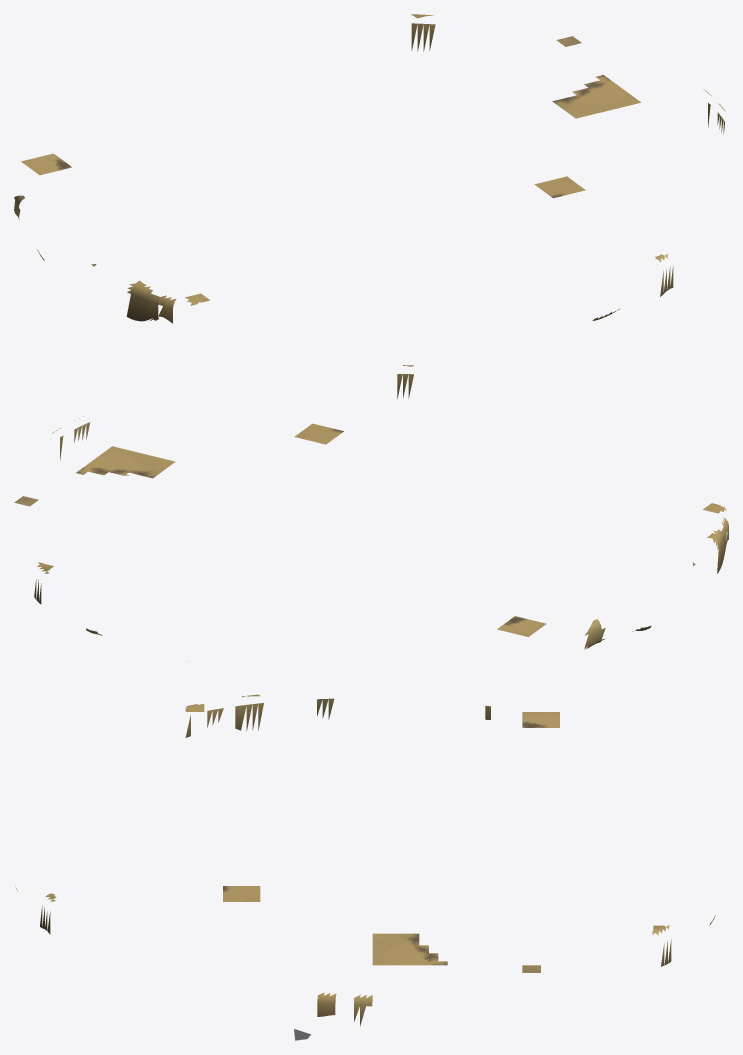
3 views of the same model, one above another, from view 1: azimuth 30°, elevation 25°; view 2: azimuth 150°, elevation 25°; view 3: azimuth 270°, elevation 25° (orthographic). The views are drawn at different scales.
Parts seen in each view (by area): view 1: Grass_3_0_0, Grass_-5_-2_0_000, Grass_-4_2_0_000, Grass_1_-2_0_100; view 2: Grass_3_0_0, Grass_-4_2_0_000, Grass_1_-2_0_100; view 3: Grass_3_0_0, Grass_-4_2_0_000, Grass_1_-2_0_100, Grass_-5_-2_0_000.
Boxes of the visible parts, bbox=[...] form: Grass_3_0_0: bbox=[552, 75, 640, 118]; Grass_-5_-2_0_000: bbox=[126, 280, 159, 321]; Grass_-4_2_0_000: bbox=[21, 153, 71, 175]; Grass_1_-2_0_100: bbox=[534, 176, 585, 198]; Grass_3_0_0: bbox=[76, 446, 175, 478]; Grass_-4_2_0_000: bbox=[497, 616, 546, 636]; Grass_1_-2_0_100: bbox=[294, 423, 343, 444]; Grass_3_0_0: bbox=[372, 933, 447, 965]; Grass_-4_2_0_000: bbox=[522, 712, 559, 727]; Grass_1_-2_0_100: bbox=[223, 886, 260, 901]; Grass_-5_-2_0_000: bbox=[235, 694, 263, 731].
Size of the model in its own units: 627 by 58.9 by 611.
Materials: 19 (19 with a texture image).
